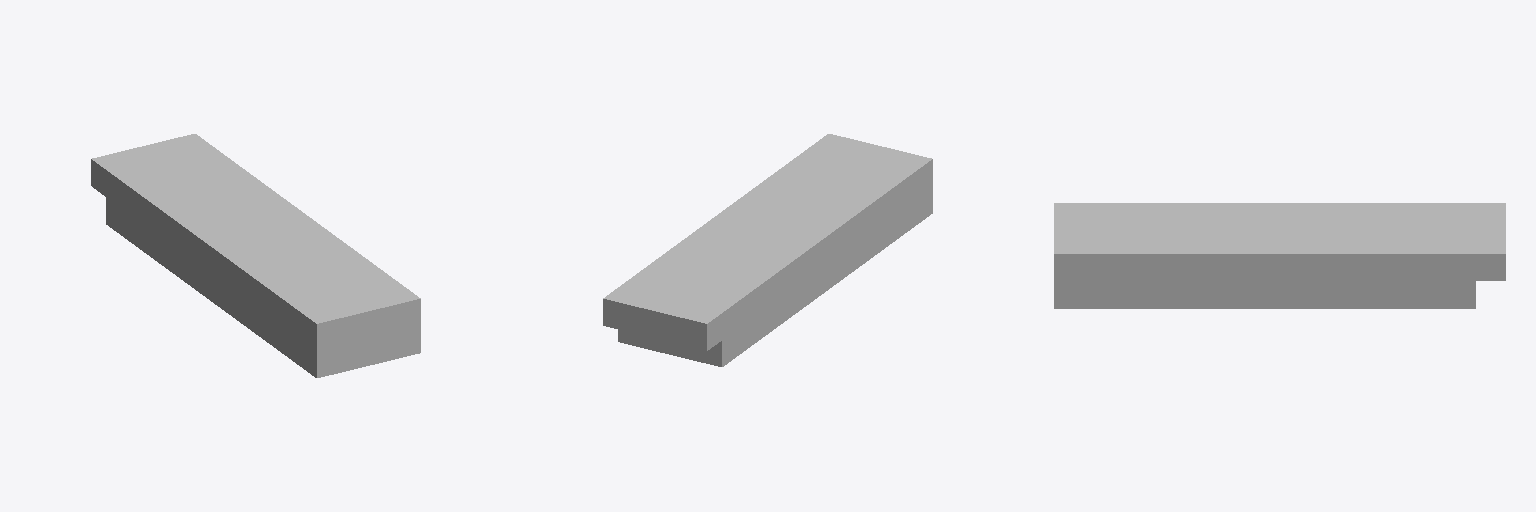
File: Weapons-15-Garden Shaft.obj
3 renders of one model, left to right at view 1: azimuth 30°, elevation 25°; view 2: azimuth 150°, elevation 25°; view 3: azimuth 270°, elevation 25°, orthographic.
Visible parts, largest first — view 1: Garden Shaft; view 2: Garden Shaft; view 3: Garden Shaft.
Boxes of the visible parts, x1,y1,x2,y2 form: Garden Shaft: [91, 134, 420, 377]; Garden Shaft: [603, 134, 932, 366]; Garden Shaft: [1054, 203, 1505, 308].
Size of the model in its own units: 0.4 by 0.2 by 1.5.